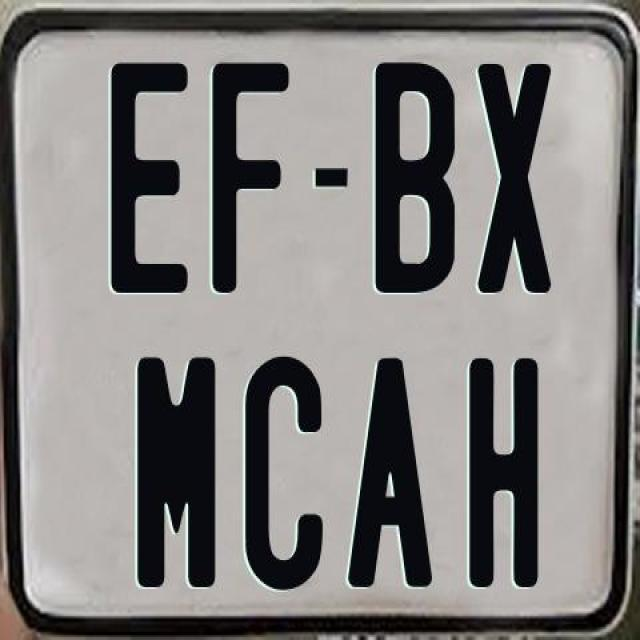A: (348, 355, 439, 584)
B: (374, 58, 460, 292)
C: (246, 354, 330, 596)
E: (110, 59, 190, 291)
F: (212, 59, 295, 293)
H: (466, 356, 544, 594)
M: (138, 354, 222, 588)
X: (478, 61, 558, 292)
